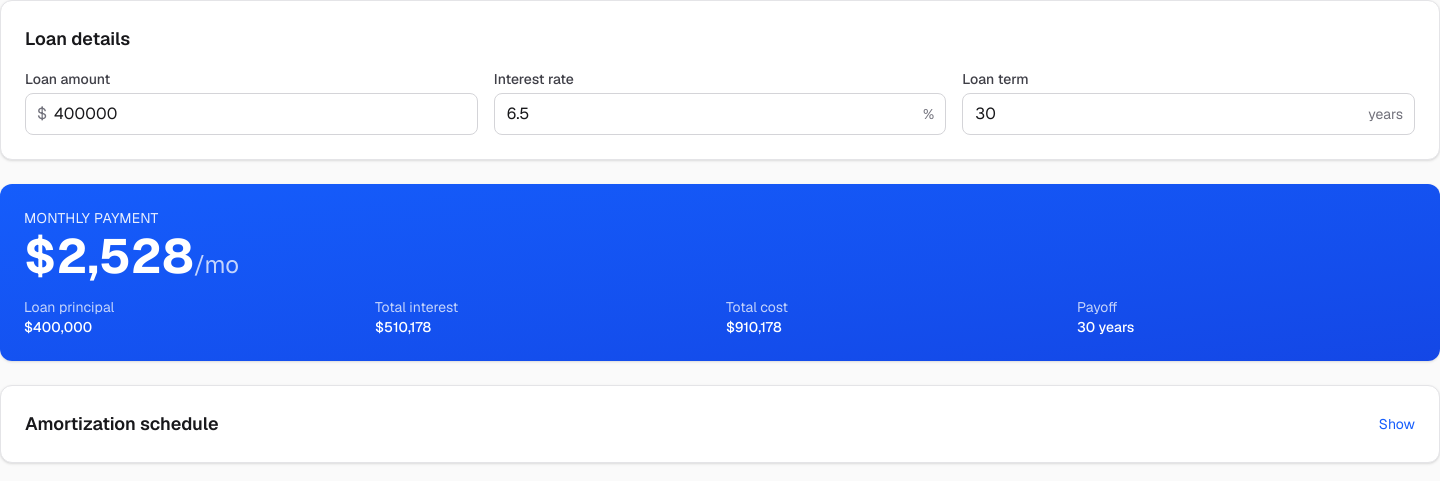
Test case: MortgageCalculator › updates monthly payment when principal changes
This screenshot has width=1440, height=481.
Replace the text in the number field labelled "Loan amount $" with "500000": (251, 114) [25,93,478,135]
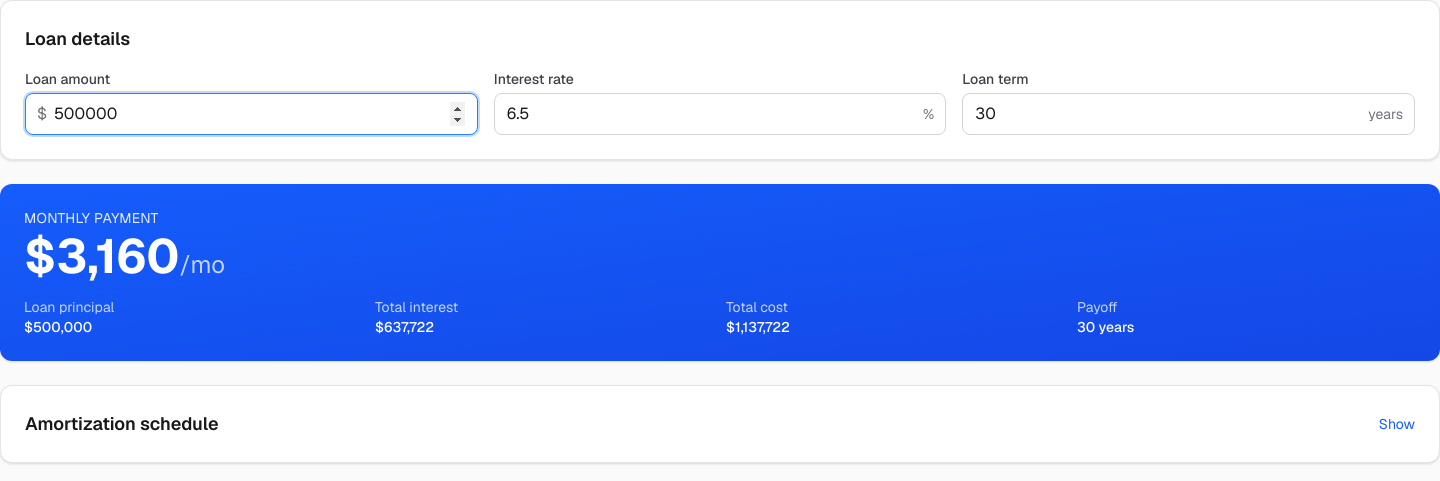
Now the text "$3,160/mo" is shown, box [24,225,225,287]
